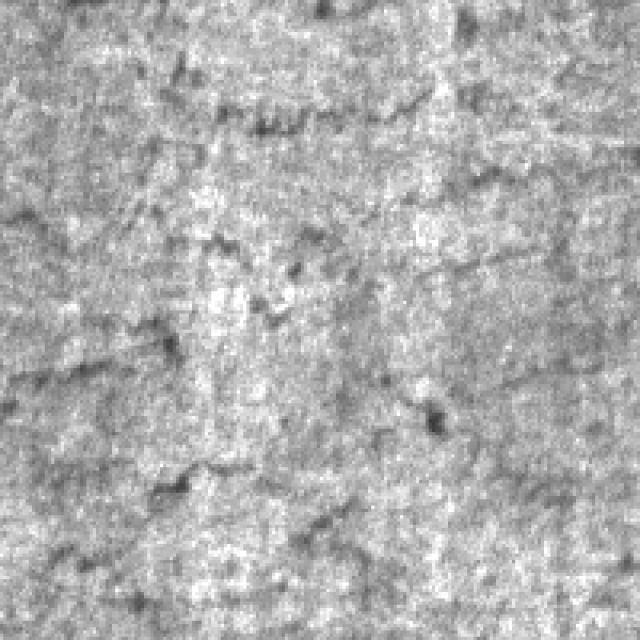crazing: (0, 118, 294, 403), (355, 147, 595, 451), (26, 454, 364, 630), (131, 0, 515, 131)
